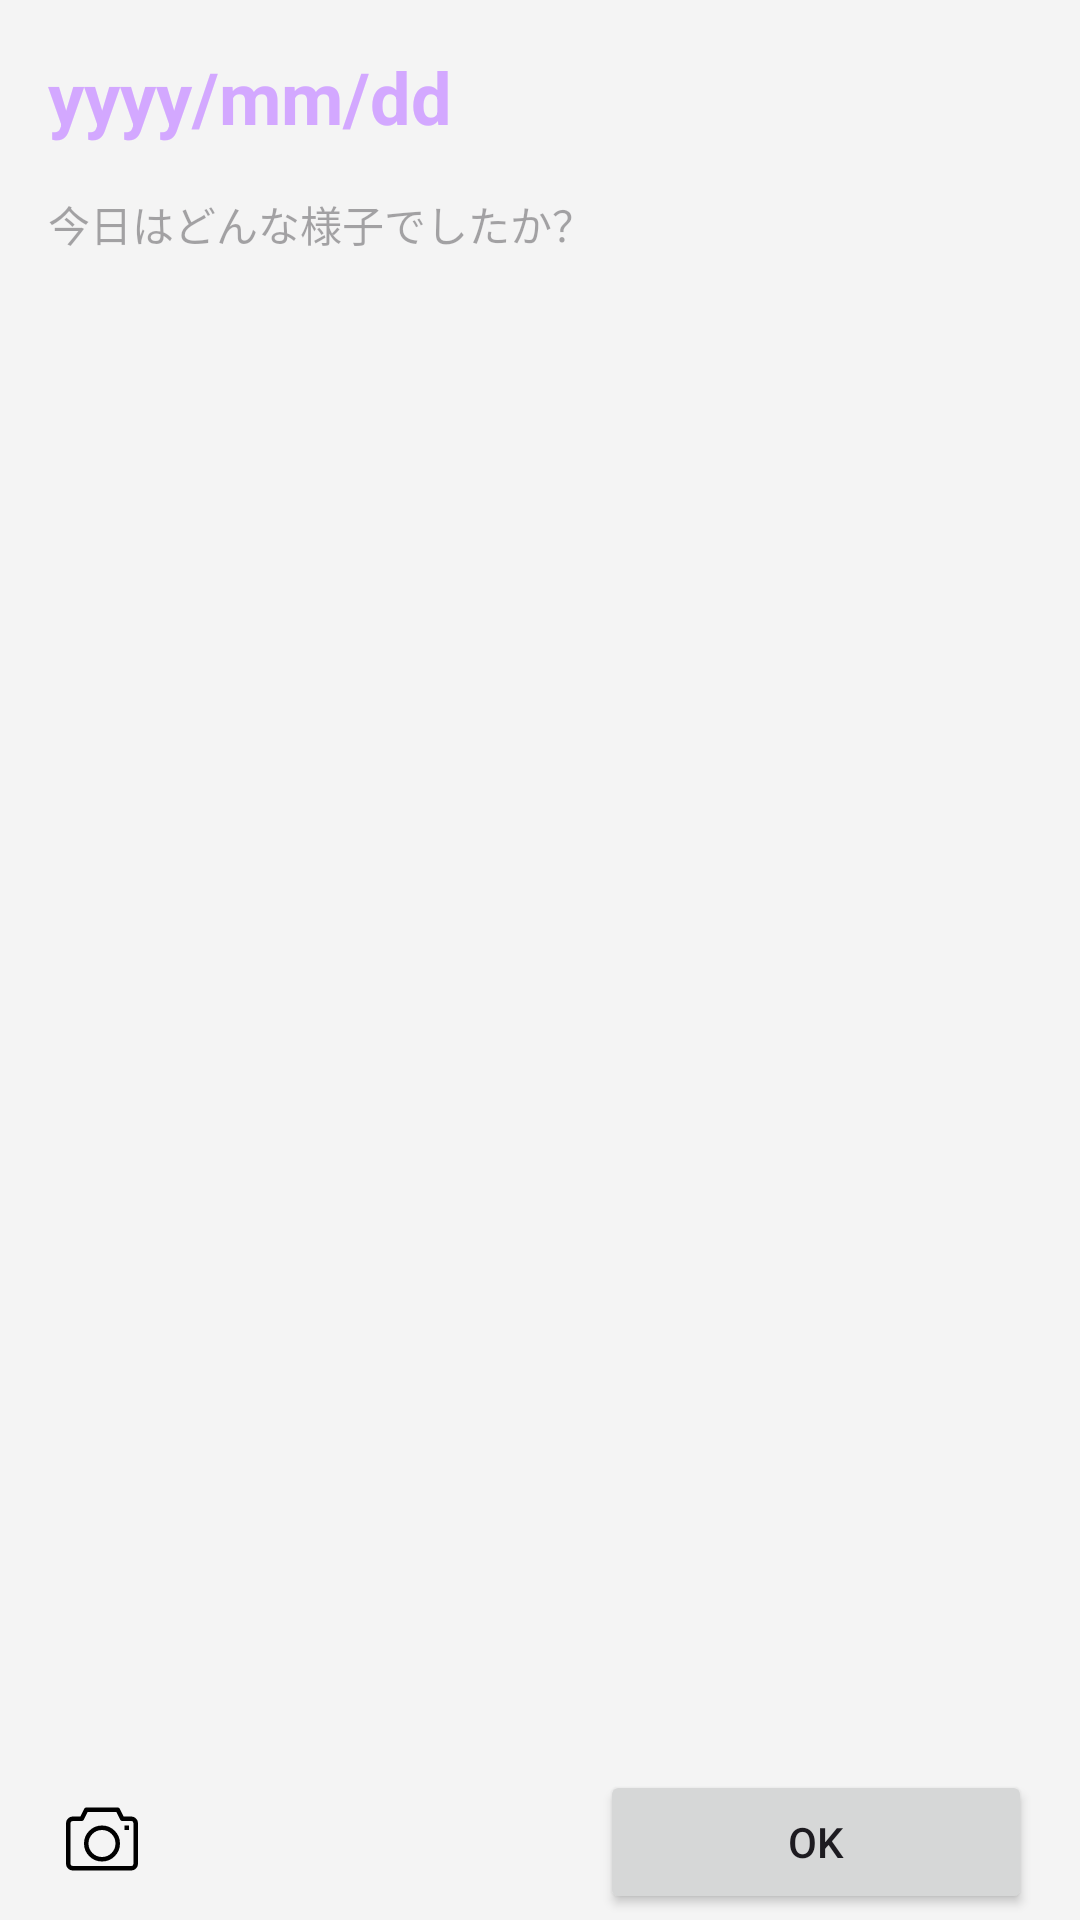

Point at icon controls on the screen. Image size 1080px x 1920px, points as point (x, y).
camera: point (102, 1839)
